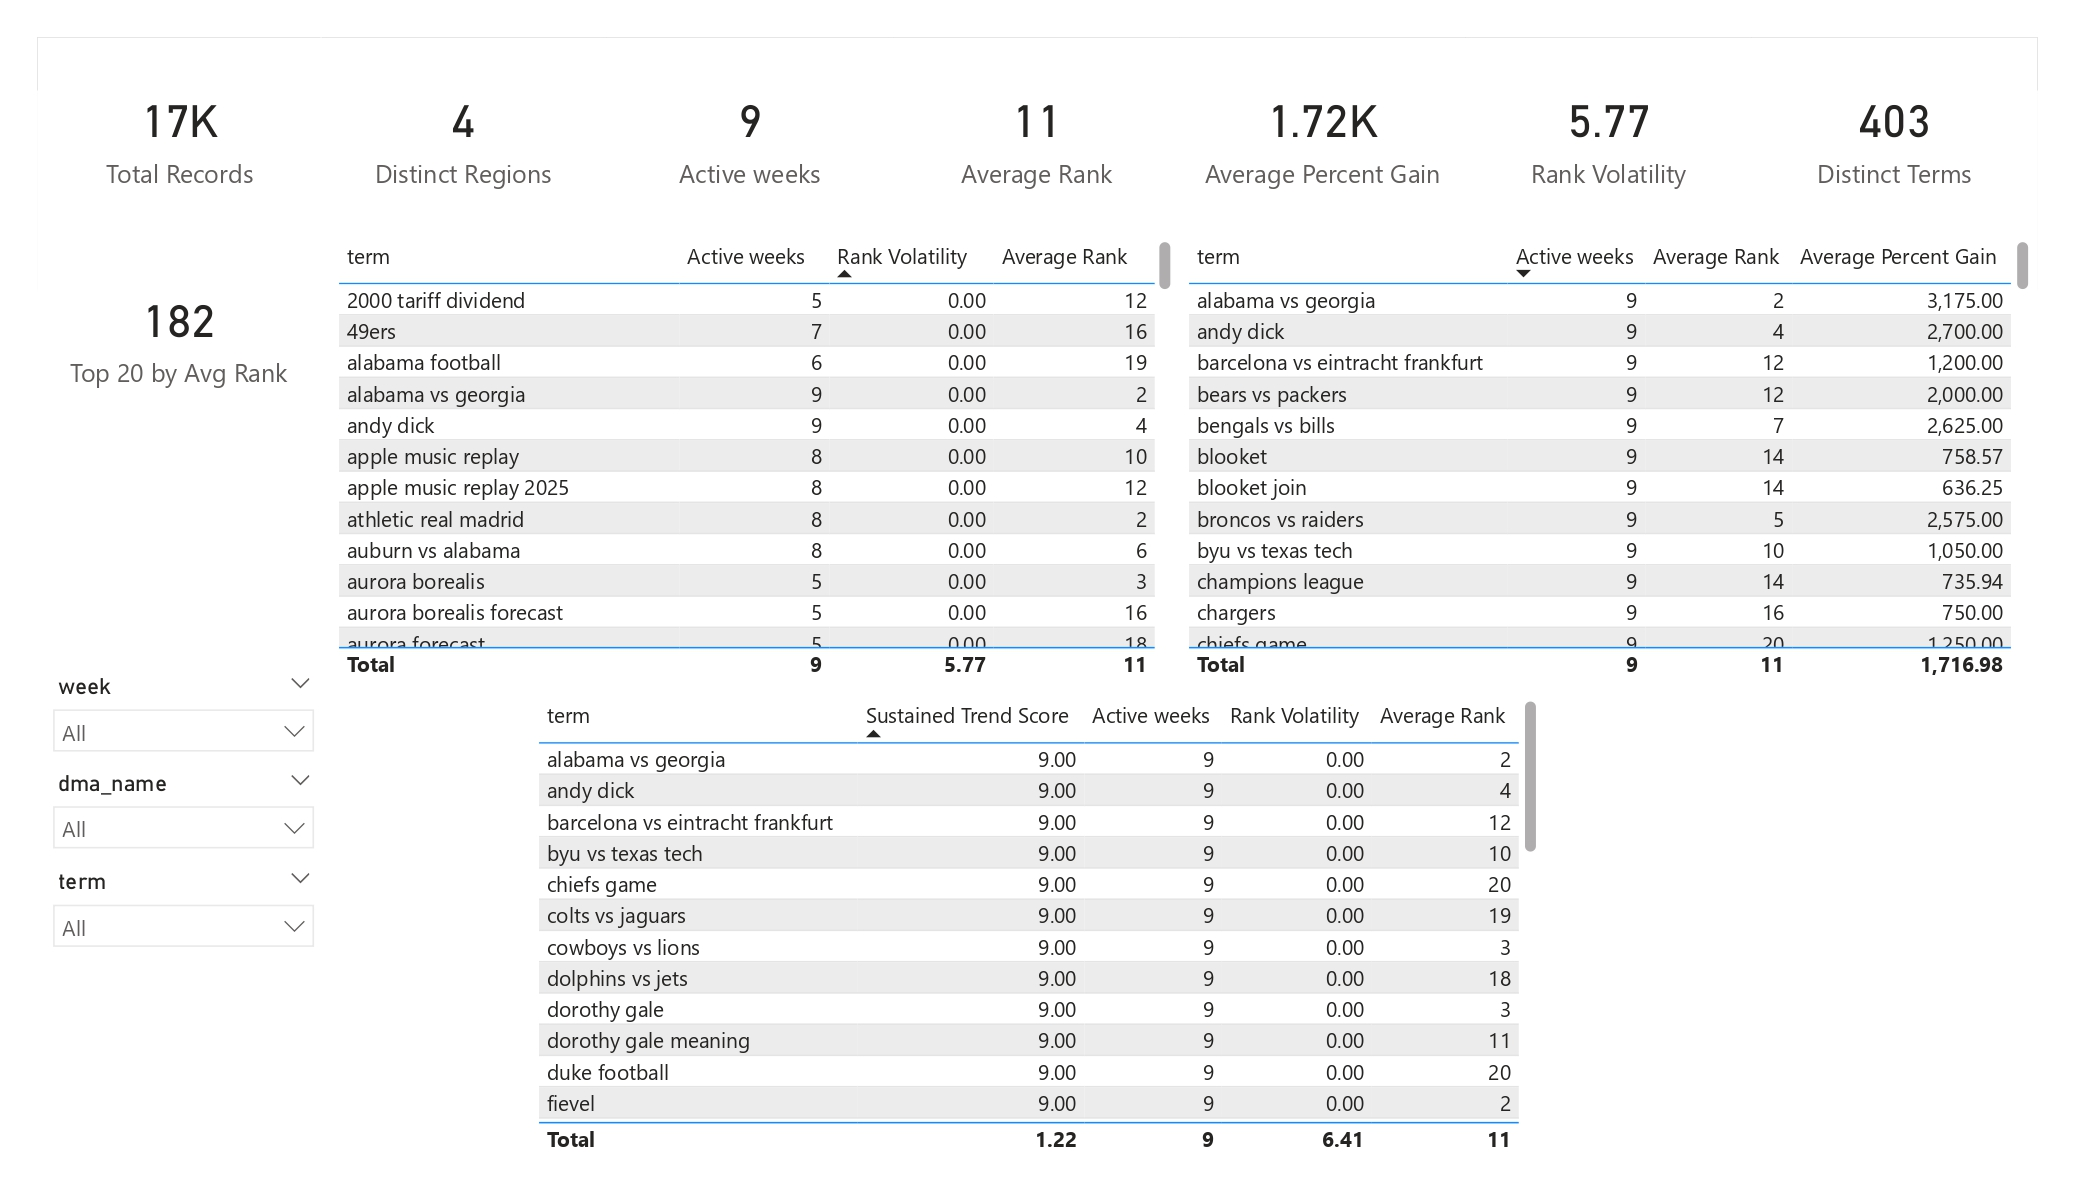

What the dashboard file says about the page in this screenshot:
{"tool":"powerbi","page":{"name":"Analysis - Trend Scoring","canvas":[1280,720],"ordinal":0},"visuals":[{"type":"slicer","fields":{"Values":["google_trends_rising_terms.week"]},"box":[0,402.1,186.5,61.6],"z":0},{"type":"slicer","fields":{"Values":["google_trends_rising_terms.dma_name"]},"box":[0,463.7,186.5,63.3],"z":1000},{"type":"slicer","fields":{"Values":["google_trends_rising_terms.term"]},"box":[0,527.1,186.5,63.3],"z":2000},{"type":"card","fields":{"Values":["google_trends_rising_terms.Total Records"]},"box":[0,0,182,124.9],"z":3000},{"type":"card","fields":{"Values":["google_trends_rising_terms.Distinct Terms"]},"box":[1096.9,0,183.1,124.9],"z":4000},{"type":"card","fields":{"Values":["google_trends_rising_terms.Distinct Regions"]},"box":[181.4,0,183.1,124.9],"z":5000},{"type":"card","fields":{"Values":["google_trends_rising_terms.Average Rank"]},"box":[547.6,0,183.1,124.9],"z":6000},{"type":"card","fields":{"Values":["google_trends_rising_terms.Average Percent Gain"]},"box":[730.7,0,183.1,124.9],"z":7000},{"type":"card","fields":{"Values":["google_trends_rising_terms.Active weeks"]},"box":[364.5,0,183.1,124.9],"z":8000},{"type":"tableEx","fields":{"Values":["google_trends_rising_terms.term","google_trends_rising_terms.Active weeks","google_trends_rising_terms.Average Rank","google_trends_rising_terms.Average Percent Gain"]},"box":[730.7,124.9,549.3,290],"z":9000},{"type":"card","fields":{"Values":["google_trends_rising_terms.Rank Volatility"]},"box":[913.8,0,183.1,124.9],"z":10000},{"type":"tableEx","fields":{"Values":["google_trends_rising_terms.term","google_trends_rising_terms.Active weeks","google_trends_rising_terms.Rank Volatility","google_trends_rising_terms.Average Rank"]},"box":[186.5,124.9,544.2,290],"z":11000},{"type":"tableEx","fields":{"Values":["google_trends_rising_terms.term","google_trends_rising_terms.Sustained Trend Score","google_trends_rising_terms.Active weeks","google_trends_rising_terms.Rank Volatility","google_trends_rising_terms.Average Rank"]},"box":[314.9,419.3,650.3,300],"z":12000},{"type":"card","fields":{"Values":["google_trends_rising_terms.Top 20 by Avg Rank"]},"box":[0,124.9,181.4,130.1],"z":13000}]}

Visuals, with their boxes on the page's 1280x720 design canvas (x1, y1, x2, y2). These are canvas units, not pixel positions in the 2075x1200 screenshot, which may show the page scaled, cropped or inside an application window:
slicer - google_trends_rising_terms.week: 0/402/186/464
slicer - google_trends_rising_terms.dma_name: 0/464/186/527
slicer - google_trends_rising_terms.term: 0/527/186/590
card - google_trends_rising_terms.Total Records: 0/0/182/125
card - google_trends_rising_terms.Distinct Terms: 1097/0/1280/125
card - google_trends_rising_terms.Distinct Regions: 181/0/364/125
card - google_trends_rising_terms.Average Rank: 548/0/731/125
card - google_trends_rising_terms.Average Percent Gain: 731/0/914/125
card - google_trends_rising_terms.Active weeks: 364/0/548/125
tableEx - google_trends_rising_terms.term x google_trends_rising_terms.Active weeks: 731/125/1280/415
card - google_trends_rising_terms.Rank Volatility: 914/0/1097/125
tableEx - google_trends_rising_terms.term x google_trends_rising_terms.Active weeks: 186/125/731/415
tableEx - google_trends_rising_terms.term x google_trends_rising_terms.Sustained Trend Score: 315/419/965/719
card - google_trends_rising_terms.Top 20 by Avg Rank: 0/125/181/255
